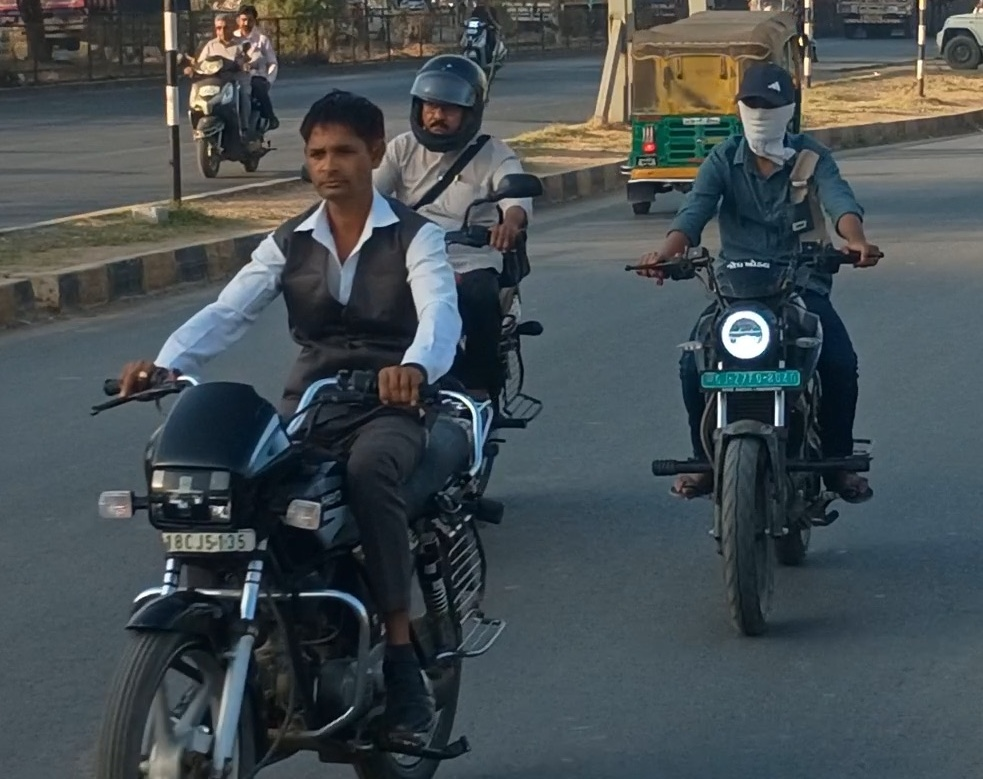BikeWithRider: (85, 45, 564, 779), (616, 49, 917, 645), (162, 0, 301, 182), (435, 2, 520, 83)
Helmet: (406, 51, 496, 159)
NoHelmet: (288, 76, 408, 213), (728, 54, 811, 170), (209, 11, 239, 44), (238, 5, 257, 37)
